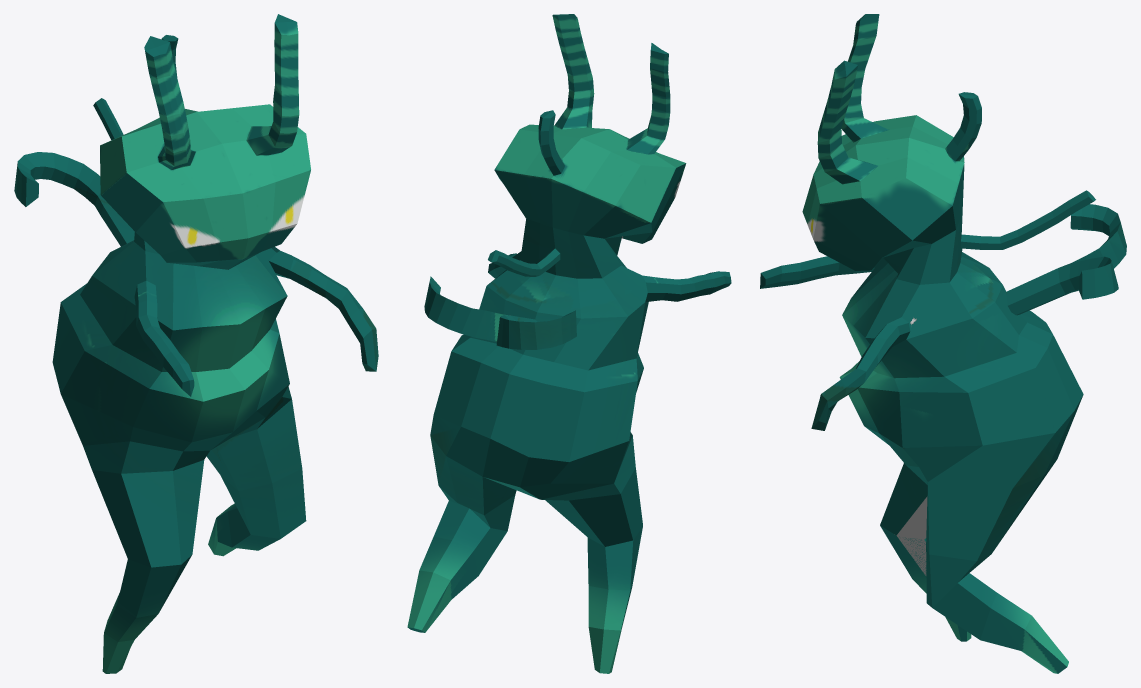
The model's file is monstruo1_caminar_27.obj.
The picture shows the model from 3 angles, left to right: view 1: azimuth 30°, elevation 25°; view 2: azimuth 150°, elevation 25°; view 3: azimuth 270°, elevation 25°; orthographic projection. The views are drawn at different scales.
Parts seen in each view (by area): view 1: Monstruo_basico; view 2: Monstruo_basico; view 3: Monstruo_basico.
Boxes of the visible parts, x1,y1,x2,y2 form: Monstruo_basico: (14, 14, 378, 673); Monstruo_basico: (407, 14, 731, 673); Monstruo_basico: (760, 14, 1126, 673).
Bounding box in the file's own units: 0.3657 × 1.02 × 0.5438.
